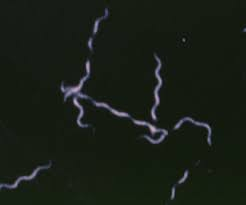sphyillis: (58, 80, 169, 144), (58, 7, 109, 100), (58, 80, 93, 130), (1, 161, 52, 190), (172, 115, 214, 144), (148, 51, 163, 118), (168, 165, 188, 198)
